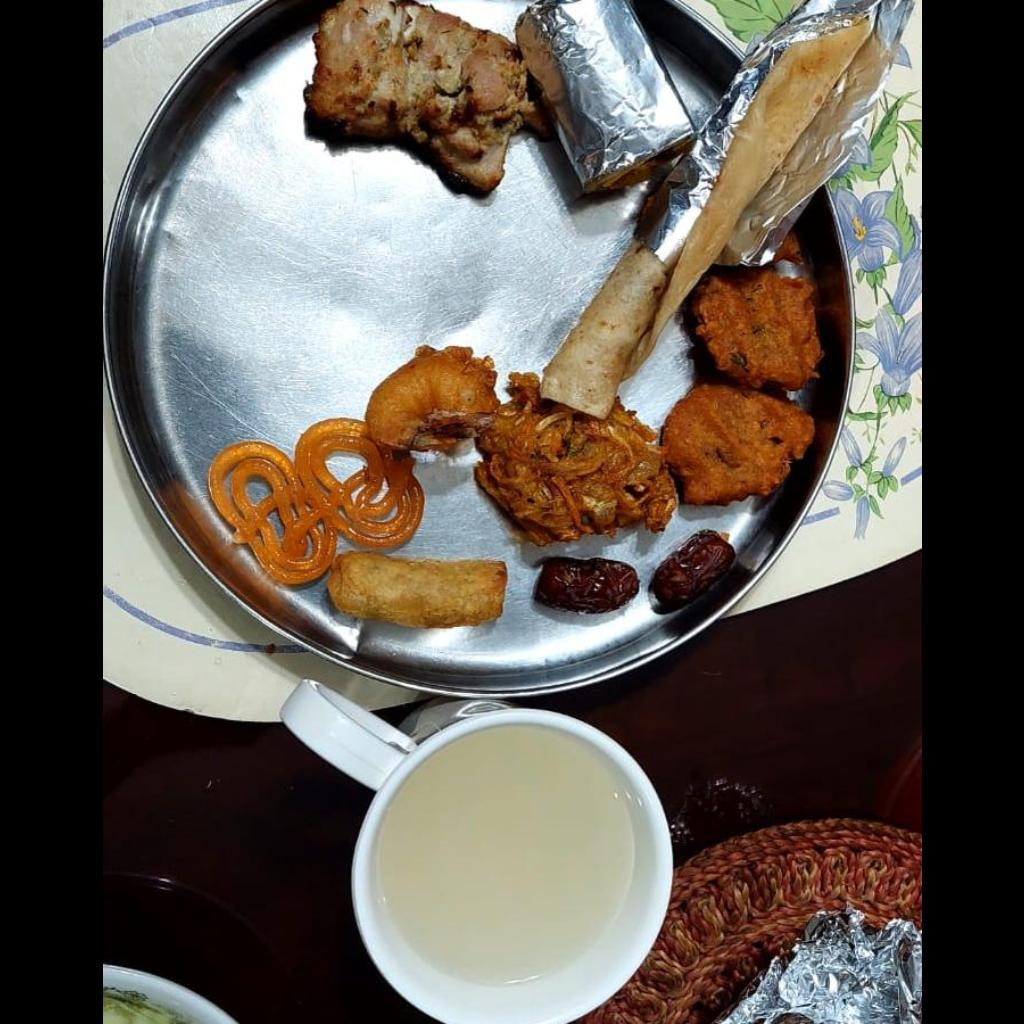chicken: (303, 0, 547, 192)
chop-alu: (365, 346, 498, 451)
dates: (647, 530, 735, 613), (534, 558, 638, 613)
jilapi: (206, 421, 422, 585)
juice: (372, 742, 648, 1009)
peyaju: (473, 265, 814, 533)
roll: (540, 18, 869, 419), (516, 0, 693, 191), (540, 239, 666, 418), (326, 552, 506, 628)
